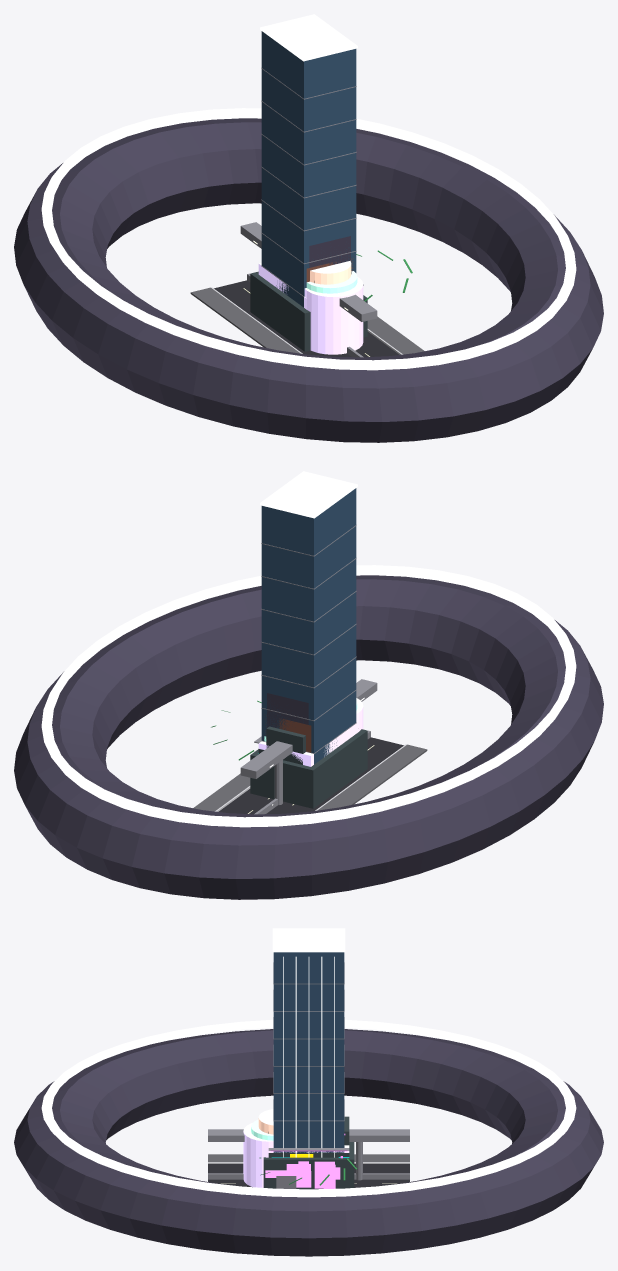
Rendered from world.glb.
3 views of the same model, one above another, from view 1: azimuth 30°, elevation 25°; view 2: azimuth 150°, elevation 25°; view 3: azimuth 270°, elevation 25° (orthographic). The views are drawn at different scales.
Visible parts, largest first — view 1: Stadium_Bowl, Tower_0_Glass, Stadium_Lights, Deco_2_Corner, Warehouse_0_Wall, Tower_0_Crown, Road_Walk, Road_Asphalt, Metro_Beam, Building_0_Wall, Road_Walk.001, Deco_1_Corner; view 2: Stadium_Bowl, Tower_0_Glass, Stadium_Lights, Warehouse_0_Wall, Tower_0_Crown, Road_Asphalt, Road_Walk, Metro_Beam, Building_0_Wall, Road_Walk.001, Building_2_Wall, Deco_2_Wall; view 3: Stadium_Bowl, Tower_0_Glass, Stadium_Lights, Tower_0_Crown, Warehouse_0_Wall, Road_Asphalt, Metro_Beam, Deco_2_Corner, Road_Walk, Rail_Wall, Warehouse_0_Mural.005.
Boxes of the visible parts, x1,y1,x2,y2 form: Stadium_Bowl: [14, 118, 603, 442]; Tower_0_Glass: [261, 31, 356, 307]; Stadium_Lights: [41, 108, 576, 370]; Deco_2_Corner: [304, 277, 363, 354]; Warehouse_0_Wall: [250, 271, 367, 351]; Tower_0_Crown: [260, 14, 357, 61]; Road_Walk: [190, 287, 300, 353]; Road_Asphalt: [214, 280, 399, 357]; Metro_Beam: [240, 222, 377, 321]; Building_0_Wall: [309, 236, 350, 267]; Road_Walk.001: [367, 316, 424, 354]; Deco_1_Corner: [310, 260, 351, 284]; Stadium_Bowl: [14, 575, 603, 899]; Tower_0_Glass: [261, 488, 356, 764]; Stadium_Lights: [41, 565, 576, 827]; Warehouse_0_Wall: [250, 729, 367, 808]; Tower_0_Crown: [260, 471, 357, 518]; Road_Asphalt: [218, 737, 403, 814]; Road_Walk: [317, 744, 427, 810]; Metro_Beam: [240, 679, 377, 778]; Building_0_Wall: [267, 693, 308, 727]; Road_Walk.001: [193, 773, 250, 811]; Building_2_Wall: [266, 726, 305, 764]; Deco_2_Wall: [258, 721, 359, 766]; Stadium_Bowl: [14, 1029, 603, 1256]; Tower_0_Glass: [273, 952, 344, 1152]; Stadium_Lights: [41, 1019, 576, 1197]; Tower_0_Crown: [272, 928, 345, 952]; Warehouse_0_Wall: [263, 1142, 354, 1189]; Road_Asphalt: [208, 1164, 409, 1187]; Metro_Beam: [208, 1129, 409, 1141]; Deco_2_Corner: [243, 1123, 273, 1187]; Road_Walk: [208, 1154, 409, 1161]; Rail_Wall: [208, 1173, 409, 1179]; Warehouse_0_Mural.005: [314, 1161, 334, 1188].
Bounding box in the file's own units: 90 × 53.55 × 117.
